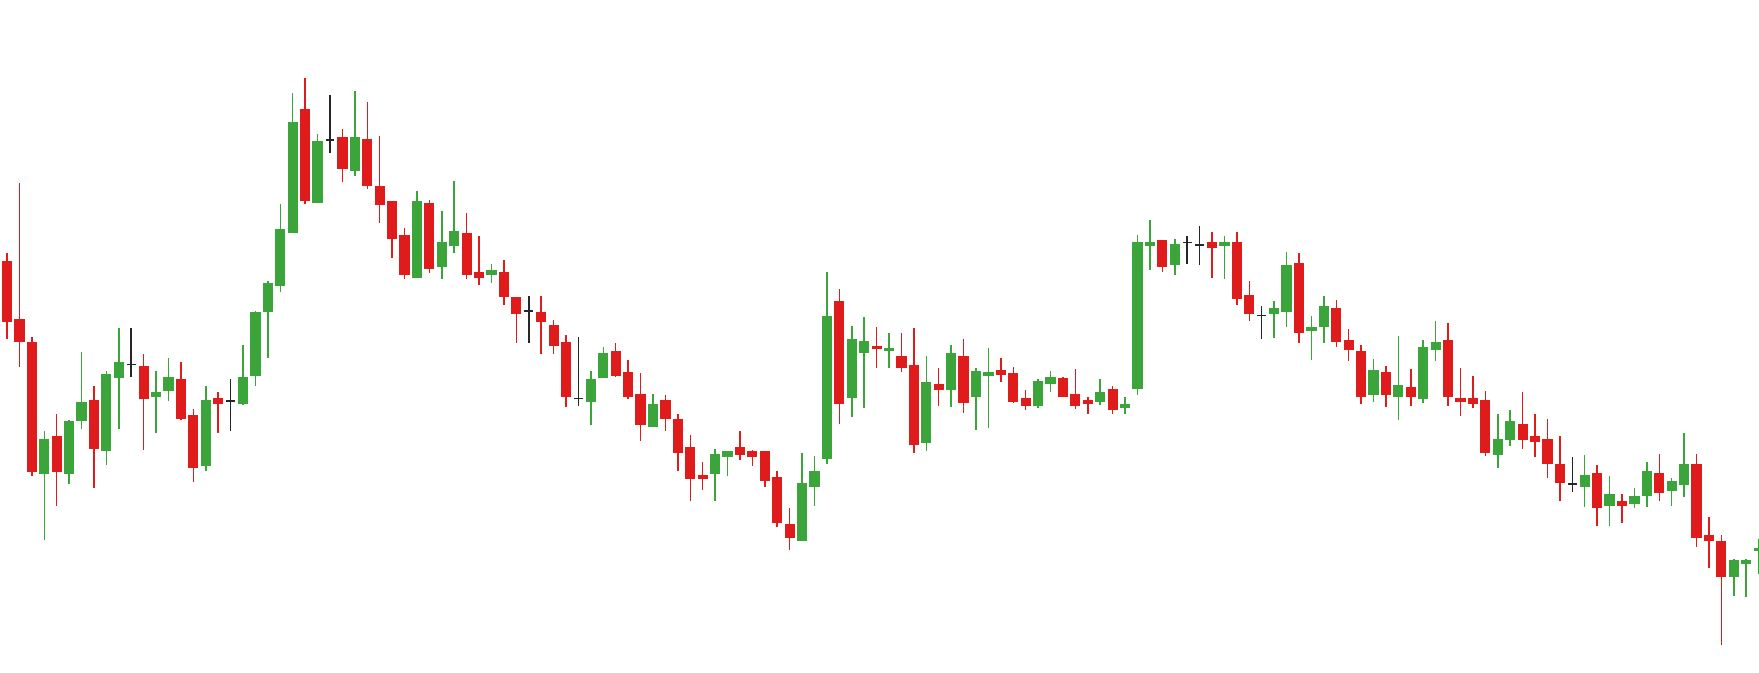buy: (136, 362, 213, 476)
